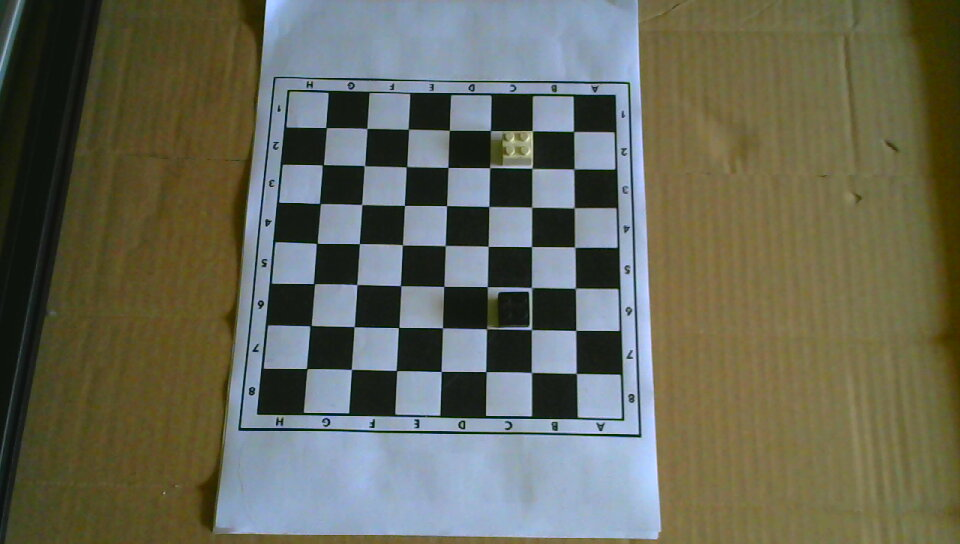bp: (495, 288, 533, 329)
wp: (499, 127, 535, 165)
